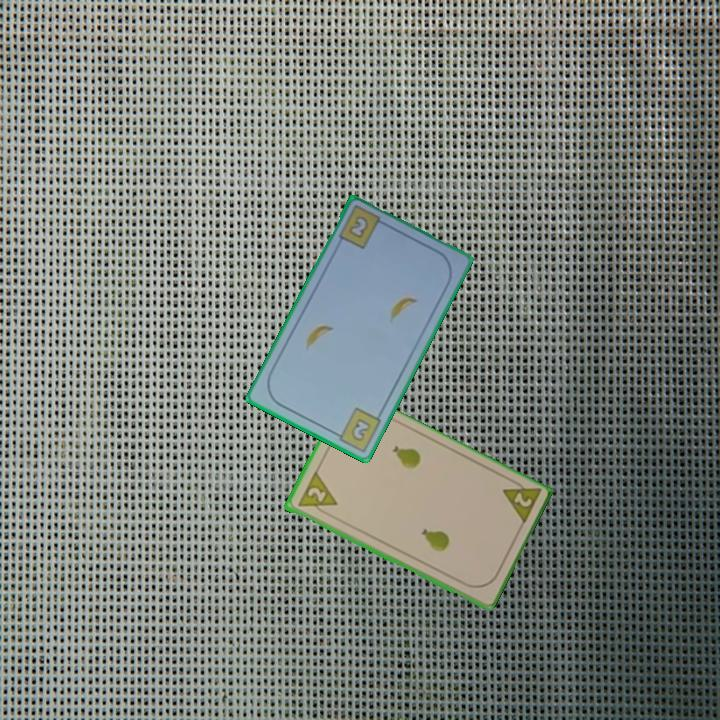2b: (329, 404, 385, 455), (345, 212, 371, 242)
2p: (498, 474, 543, 529), (294, 469, 340, 520)
